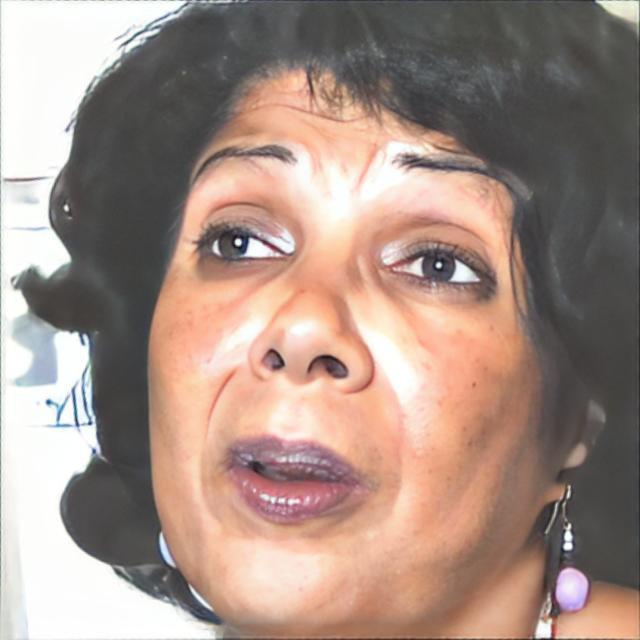surprise: (144, 53, 550, 630)
